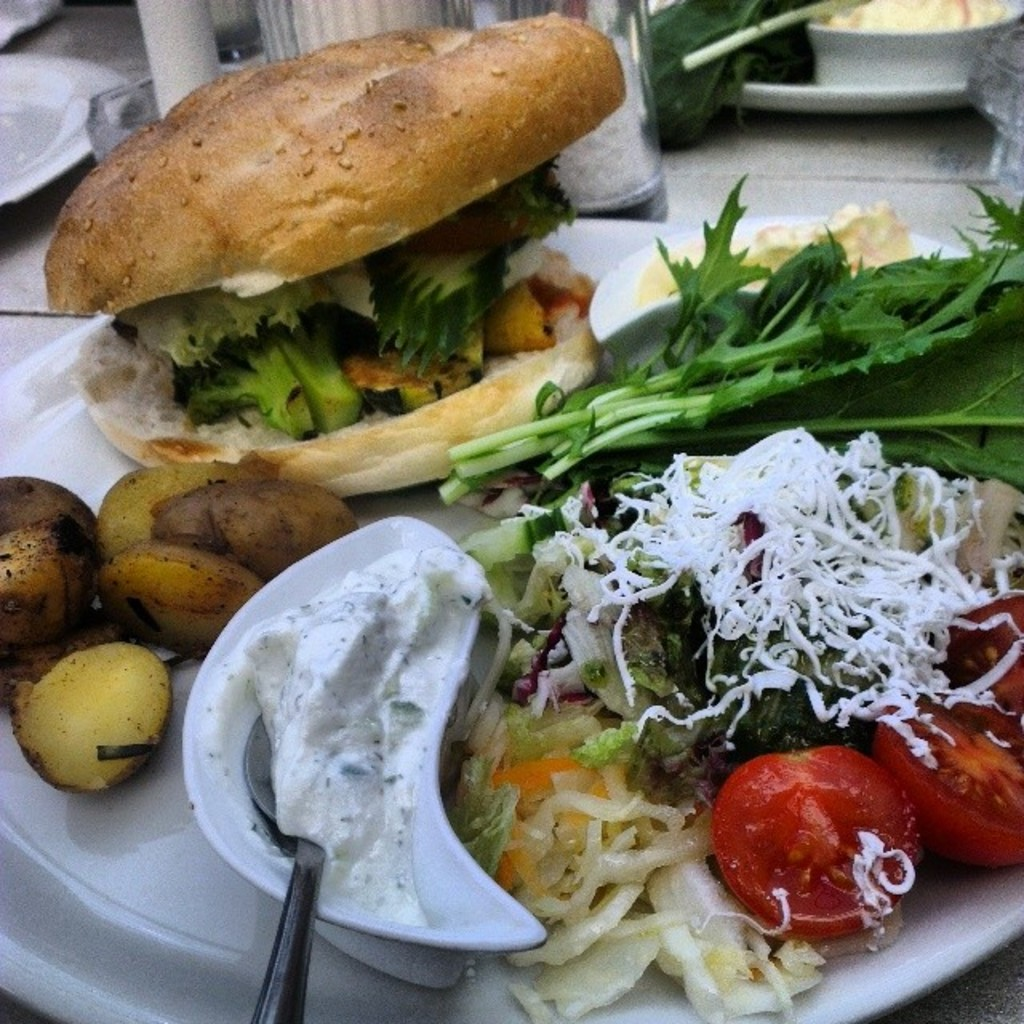Hamburger: (22, 9, 625, 499)
